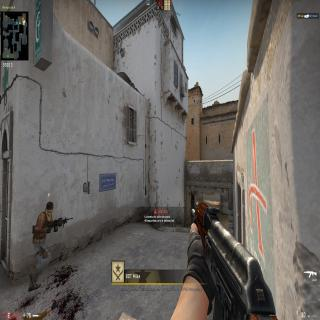T-Head: (46, 200, 56, 217)
